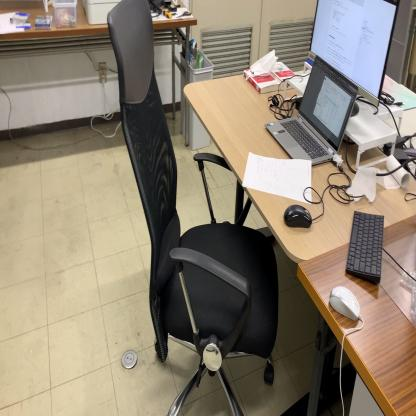chair: (106, 0, 280, 414)
